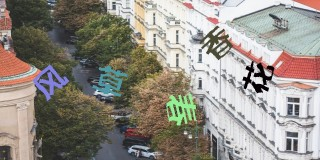春: (166, 91, 197, 127)
花: (242, 60, 275, 94)
草: (94, 64, 128, 97)
风: (31, 63, 68, 101)
香: (199, 26, 232, 59)
